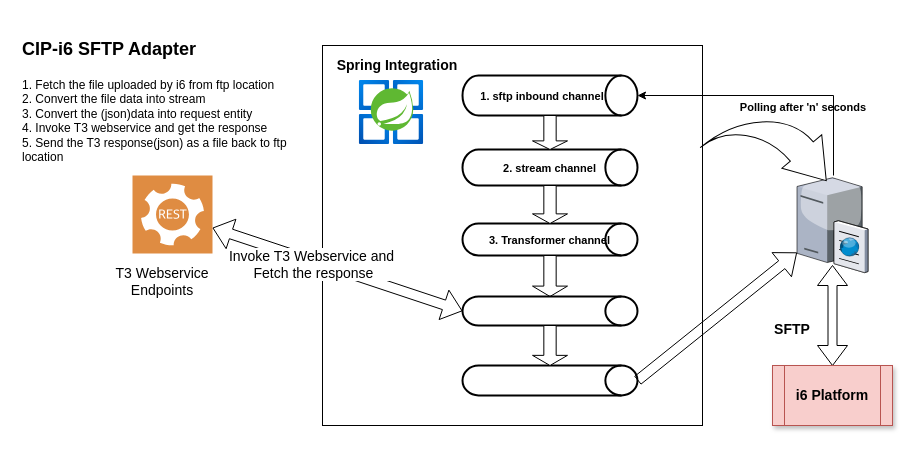
Image size: 916x450. Some labels were removed from this diagram. Each missing label, with the centre of its shape:
"4.T3 request channel" belongs at pixel 549 310.
"5. T3 response channel" belongs at pixel 549 380.
